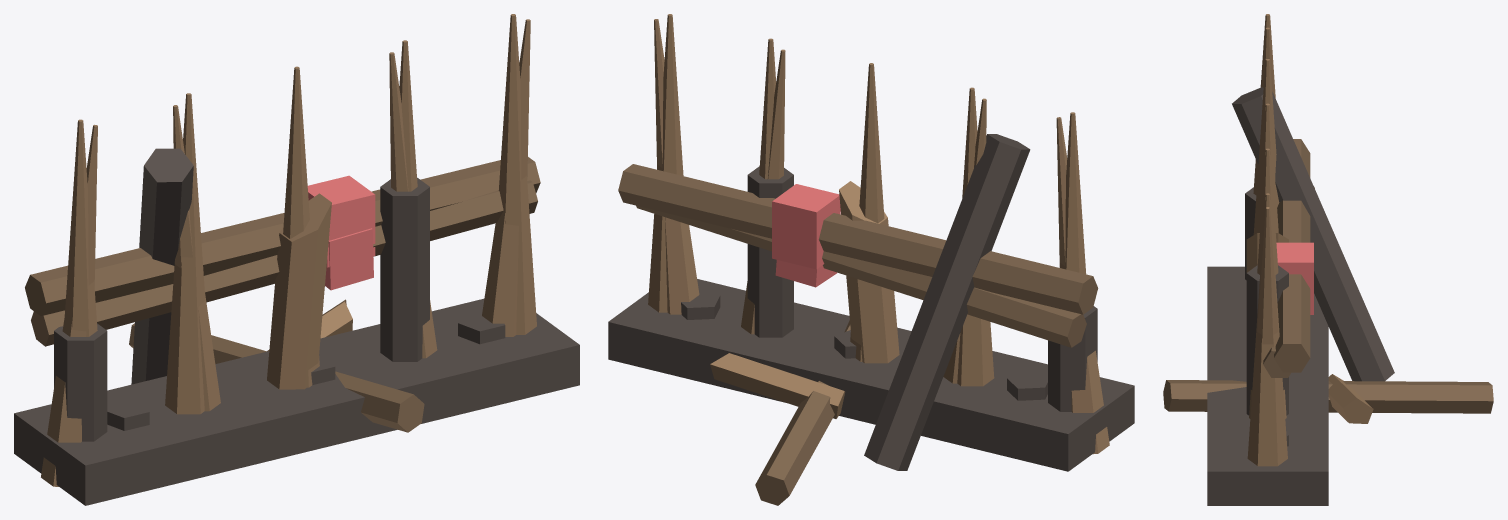
The model's file is palisade_wall_stages.glb.
3 renders of one model, left to right at view 1: azimuth 30°, elevation 25°; view 2: azimuth 150°, elevation 25°; view 3: azimuth 270°, elevation 25°, orthographic. The views are drawn at different scales.
Visible parts, largest first — view 1: Stage_Rubble, Stage_Intact, Stage_Damaged, Stage_Critical; view 2: Stage_Intact, Stage_Rubble, Stage_Critical, Stage_Damaged; view 3: Stage_Critical, Stage_Rubble, Stage_Intact, Stage_Damaged.
Boxes of the visible parts, left/top/right/bottom form: Stage_Rubble: left=14, top=298, right=579, bottom=505; Stage_Intact: left=25, top=14, right=540, bottom=414; Stage_Damaged: left=31, top=19, right=537, bottom=486; Stage_Critical: left=54, top=148, right=429, bottom=441; Stage_Intact: left=618, top=14, right=1098, bottom=386; Stage_Rubble: left=608, top=279, right=1134, bottom=471; Stage_Critical: left=747, top=134, right=1097, bottom=505; Stage_Damaged: left=636, top=19, right=1109, bottom=454; Stage_Critical: left=1163, top=87, right=1493, bottom=415; Stage_Rubble: left=1207, top=266, right=1328, bottom=505; Stage_Intact: left=1247, top=14, right=1313, bottom=466; Stage_Damaged: left=1246, top=27, right=1373, bottom=423.
Size of what is drawn, in the model's own units: 3.22 by 2.31 by 2.18.
